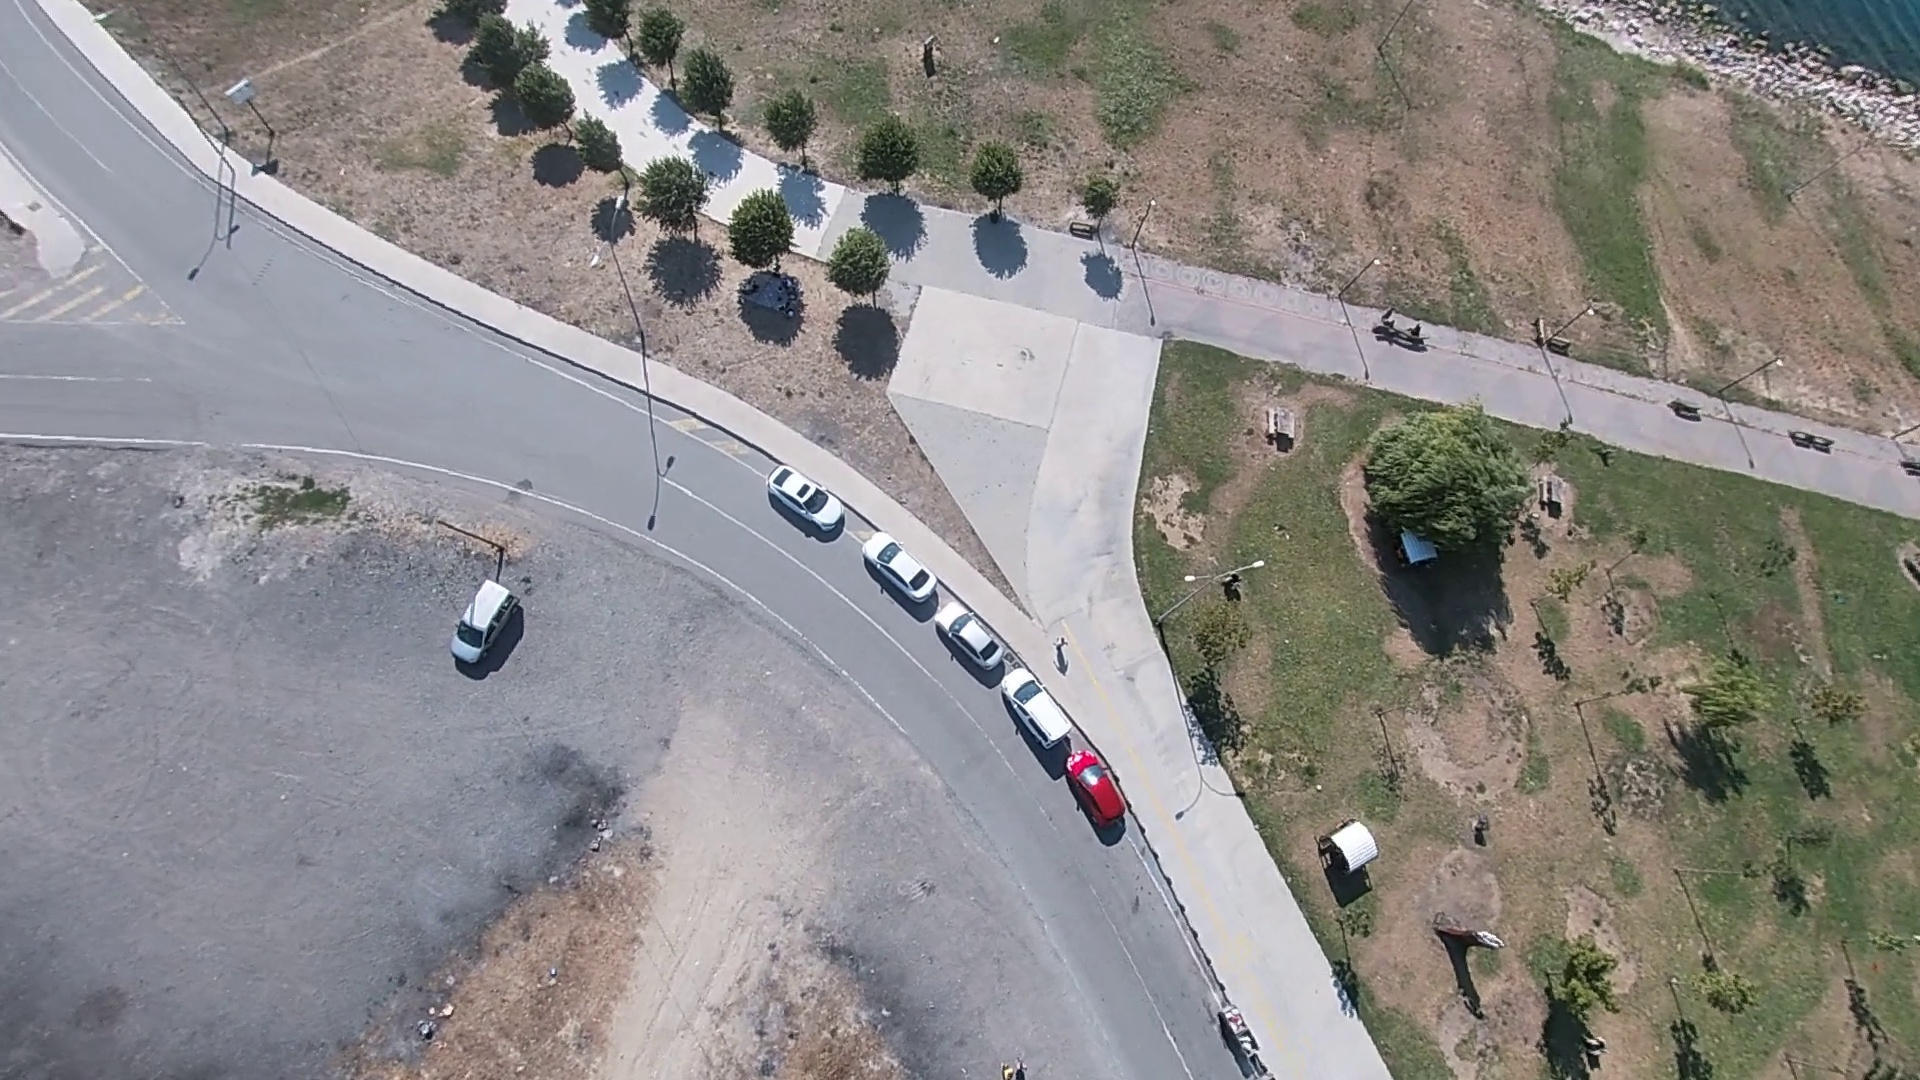arac: (998, 657, 1080, 756), (446, 579, 526, 673), (1055, 744, 1124, 836), (767, 458, 845, 538), (860, 527, 934, 608), (928, 601, 1007, 670)
